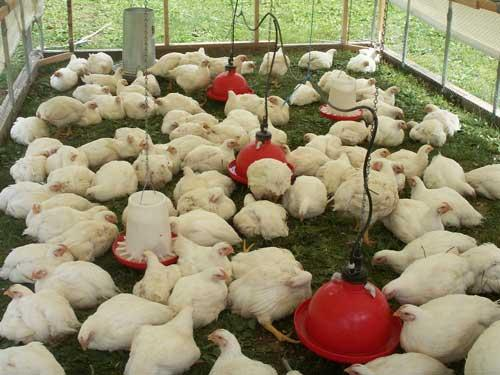chicken: (233, 263, 316, 338), (391, 300, 500, 355), (125, 305, 201, 375), (79, 294, 172, 350), (1, 284, 81, 346), (382, 254, 495, 296), (373, 229, 478, 269), (408, 174, 486, 227), (32, 261, 120, 306), (44, 210, 121, 260), (170, 267, 231, 326), (207, 329, 280, 375), (384, 199, 456, 241), (0, 241, 72, 282), (169, 209, 240, 246), (236, 193, 290, 240), (37, 96, 100, 136), (136, 243, 179, 301), (0, 180, 64, 217), (426, 154, 479, 197), (174, 166, 237, 199), (25, 194, 92, 223), (246, 160, 293, 199), (179, 186, 237, 217), (87, 162, 136, 198), (285, 176, 327, 218), (176, 240, 233, 270), (138, 145, 180, 185), (182, 138, 240, 166), (170, 59, 211, 91), (424, 103, 460, 134), (11, 116, 49, 143), (409, 119, 447, 145), (371, 117, 406, 144), (261, 45, 290, 76), (260, 94, 290, 123), (300, 49, 339, 71), (156, 95, 198, 115), (50, 69, 79, 90)
